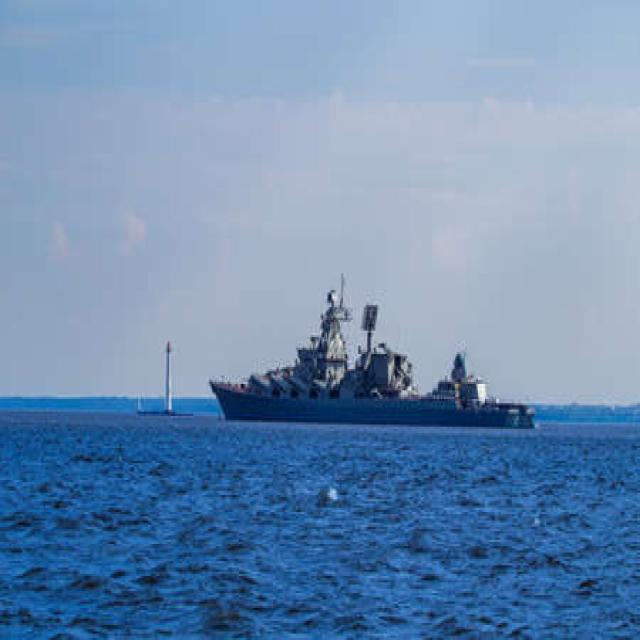navalvessels: (198, 284, 550, 462)
